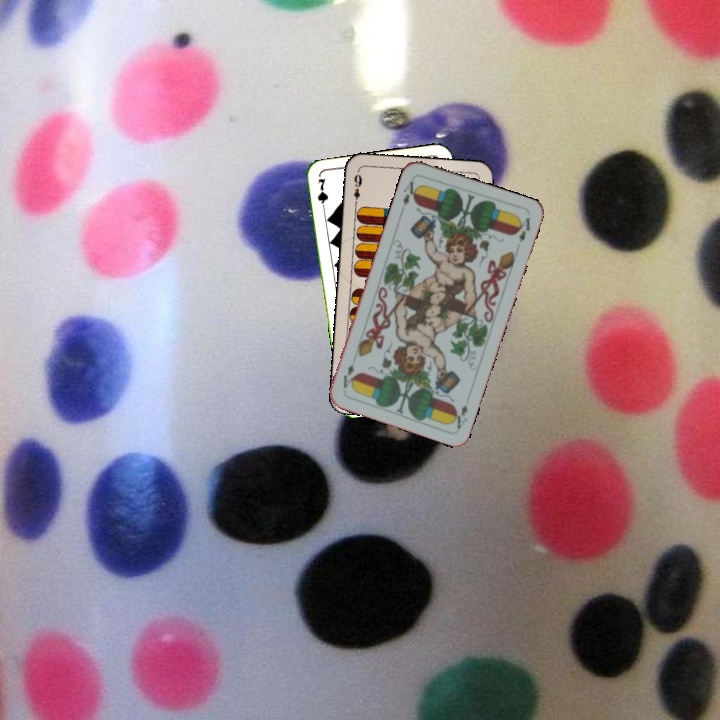E9: (349, 170, 365, 209)
EA: (397, 177, 421, 214), (448, 400, 471, 432)
G7: (313, 174, 331, 215)
